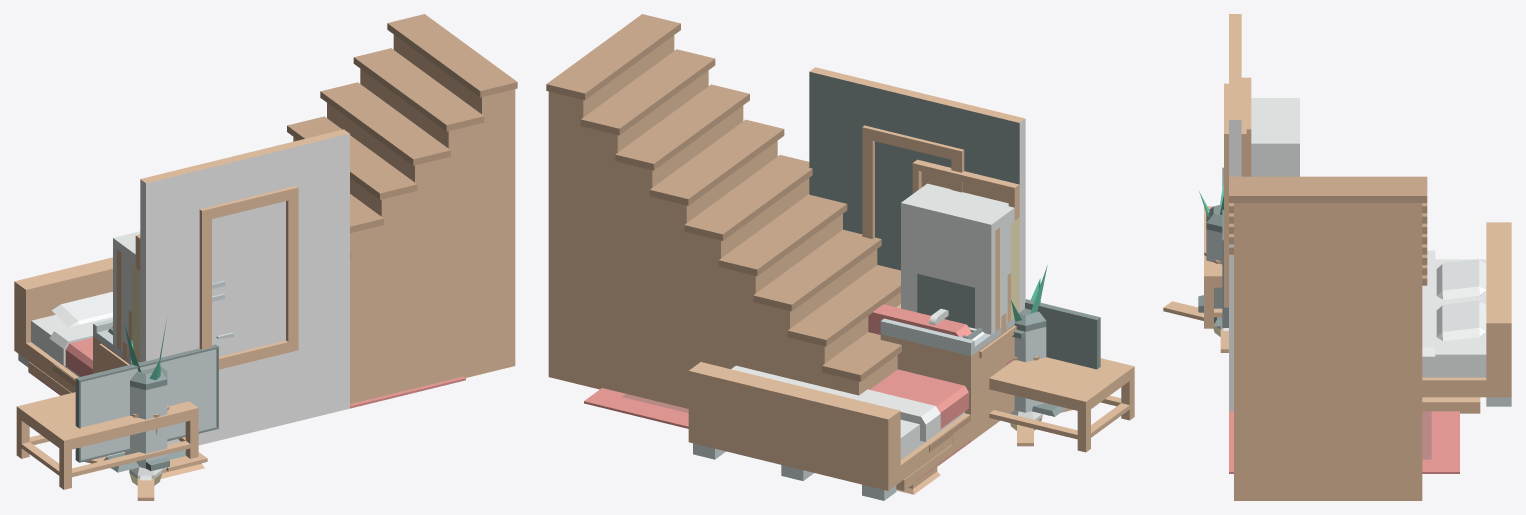
The model's file is furniture.glb.
3 renders of one model, left to right at view 1: azimuth 30°, elevation 25°; view 2: azimuth 150°, elevation 25°; view 3: azimuth 270°, elevation 25°, orthographic. The views are drawn at different scales.
Parts seen in each view (by area): view 1: stairs(Clone), wall(Clone), Mesh wallWindow, televisionModern(Clone), tableCoffee(Clone), Mesh bedDouble, trashcan(Clone), cover, Mesh kitchenFridge, pillowLeft, ceilingFan(Clone), lampSquareFloor(Clone) (+4 smaller); view 2: stairs(Clone), wall(Clone), Mesh bedDouble, Mesh kitchenFridge, Mesh bedSingle, tableCoffee(Clone), Mesh kitchenStove, Mesh wallWindow, cover, televisionModern(Clone), rugRectangle(Clone), Mesh kitchenSink (+9 smaller); view 3: stairs(Clone), Mesh bedDouble, Mesh bedSingle, Mesh kitchenFridge, wall(Clone), rugRectangle(Clone), pillowLeft, pillow, Mesh wallWindow, cover (×2), trashcan(Clone), tableCoffee(Clone) (+4 smaller).
Part boxes in pixels (box(x1,y1,x2,y2)): stairs(Clone): box(53, 14, 517, 403); wall(Clone): box(140, 129, 349, 445); Mesh wallWindow: box(146, 134, 349, 444); televisionModern(Clone): box(75, 344, 218, 472); tableCoffee(Clone): box(16, 392, 198, 489); Mesh bedDouble: box(14, 257, 112, 392); trashcan(Clone): box(125, 362, 169, 470); cover: box(49, 316, 112, 376); Mesh kitchenFridge: box(113, 231, 140, 355); pillowLeft: box(51, 292, 112, 327); ceilingFan(Clone): box(84, 452, 207, 500); lampSquareFloor(Clone): box(132, 265, 140, 362); stairs(Clone): box(546, 14, 970, 452); wall(Clone): box(809, 67, 1025, 311); Mesh bedDouble: box(688, 362, 969, 500); Mesh kitchenFridge: box(901, 183, 1014, 334); Mesh bedSingle: box(688, 366, 813, 480); tableCoffee(Clone): box(989, 357, 1134, 452); Mesh kitchenStove: box(880, 318, 1014, 441); Mesh wallWindow: box(809, 72, 1019, 238); cover: box(841, 369, 968, 441); televisionModern(Clone): box(1025, 299, 1100, 416); rugRectangle(Clone): box(584, 388, 970, 482); Mesh kitchenSink: box(881, 308, 1014, 433); stairs(Clone): box(1229, 176, 1427, 500); Mesh bedDouble: box(1422, 222, 1511, 406); Mesh bedSingle: box(1422, 263, 1511, 397); Mesh kitchenFridge: box(1251, 98, 1299, 176); wall(Clone): box(1229, 14, 1241, 411); rugRectangle(Clone): box(1229, 411, 1459, 473); pillowLeft: box(1436, 259, 1486, 299); pillow: box(1436, 301, 1486, 341); Mesh wallWindow: box(1224, 83, 1246, 307); cover (×2): box(1422, 250, 1435, 374); trashcan(Clone): box(1198, 205, 1222, 312); tableCoffee(Clone): box(1204, 206, 1222, 328).
Bounding box in the file's own units: 2.28 × 1.61 × 1.39.
